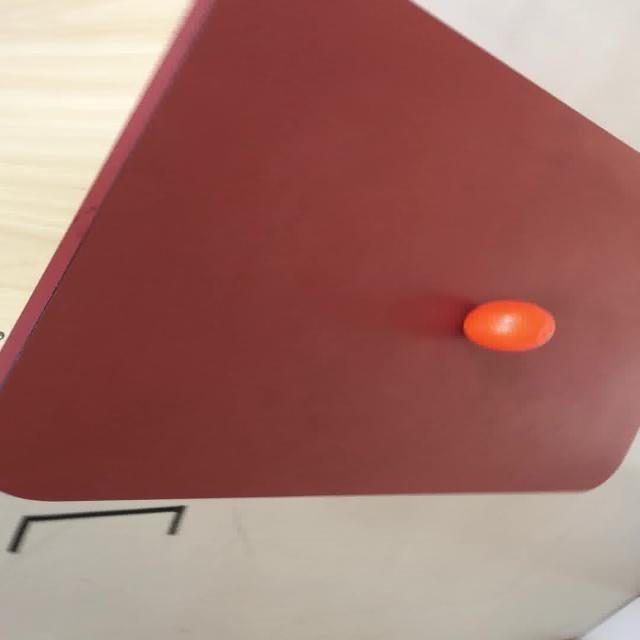orange: (460, 299, 556, 352)
